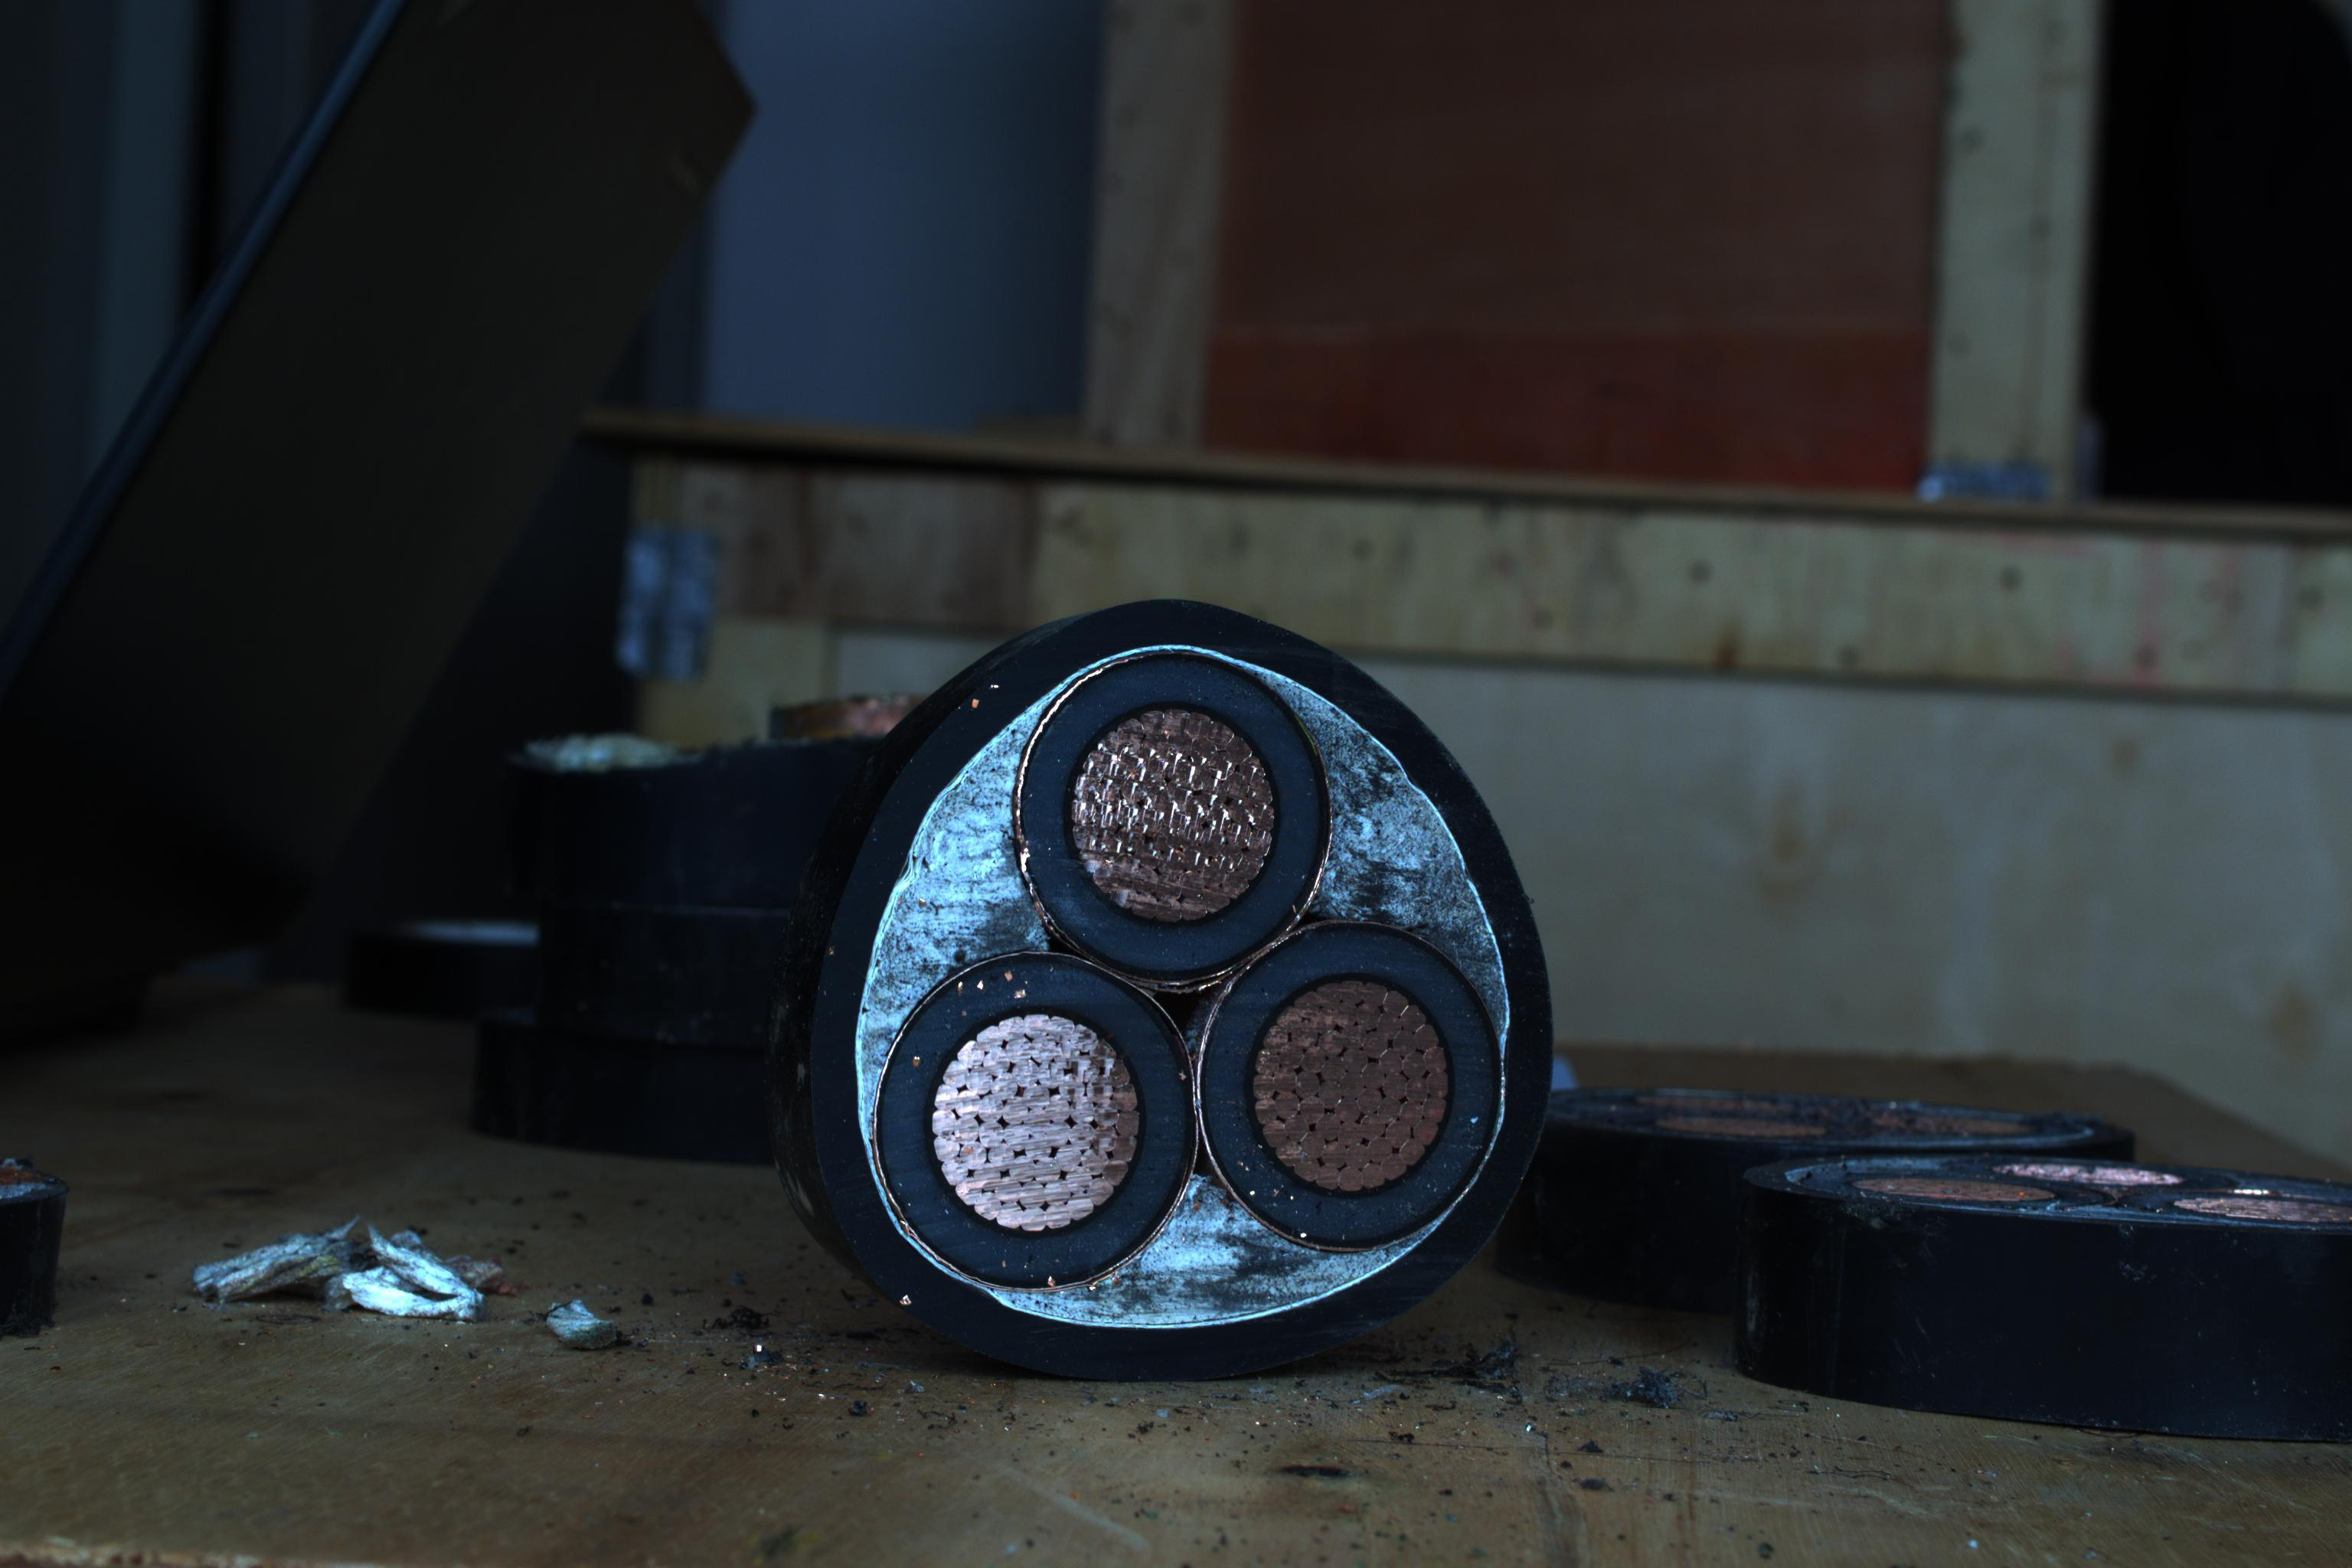ZA_YJV_8.7_10kV_3x400: (807, 632, 1585, 1347)
